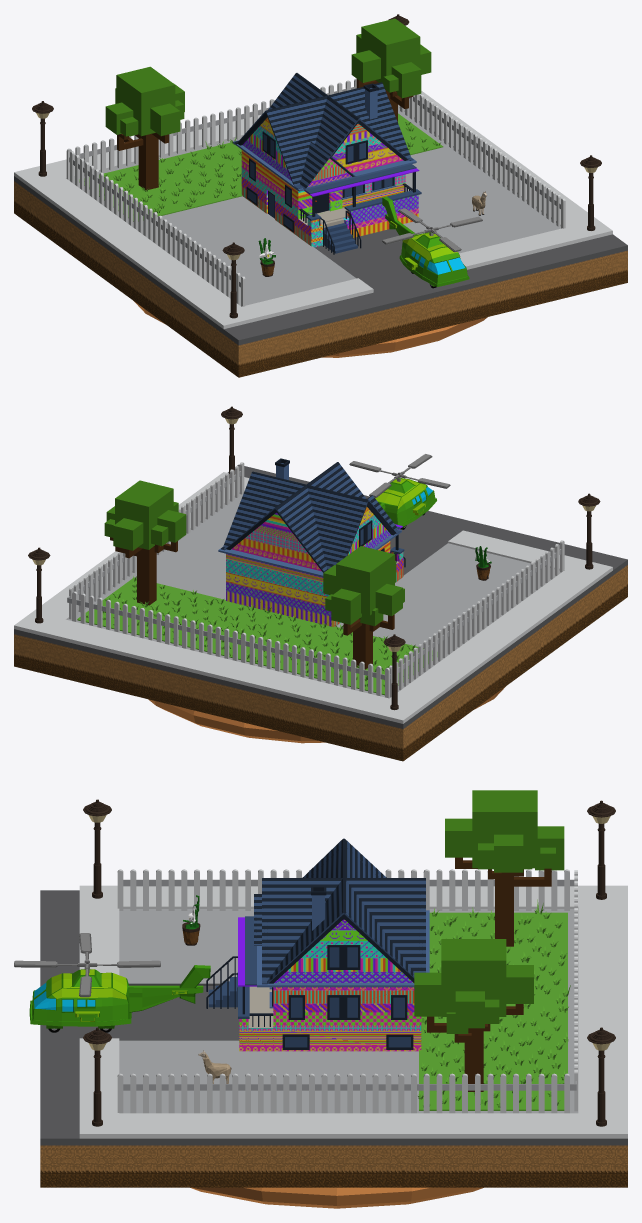
3 views of the same model, one above another, from view 1: azimuth 30°, elevation 25°; view 2: azimuth 150°, elevation 25°; view 3: azimuth 270°, elevation 25° (orthographic). The views are drawn at different scales.
Visible parts, largest first — view 1: Cube.004, Cube.676, VEHICLES_HELICOPTER, UNDERGROUND_PIZZA; view 2: Cube.004, Cube.676, VEHICLES_HELICOPTER, UNDERGROUND_PIZZA; view 3: Cube.004, Cube.676, VEHICLES_HELICOPTER, UNDERGROUND_PIZZA.
Boxes of the visible parts, box(x1,y1,x2,y2) form: Cube.004: box(14, 14, 627, 377); Cube.676: box(233, 73, 421, 254); VEHICLES_HELICOPTER: box(382, 196, 482, 288); UNDERGROUND_PIZZA: box(134, 301, 487, 357); Cube.004: box(14, 406, 627, 761); Cube.676: box(218, 458, 405, 626); VEHICLES_HELICOPTER: box(349, 454, 450, 529); UNDERGROUND_PIZZA: box(148, 686, 505, 743); Cube.004: box(40, 790, 627, 1187); Cube.676: box(206, 838, 429, 1051); VEHICLES_HELICOPTER: box(14, 933, 210, 1032); UNDERGROUND_PIZZA: box(190, 1187, 483, 1208).
Bounding box in the file's own units: 4000 × 1812 × 4179.
42 materials, 7 textured.
